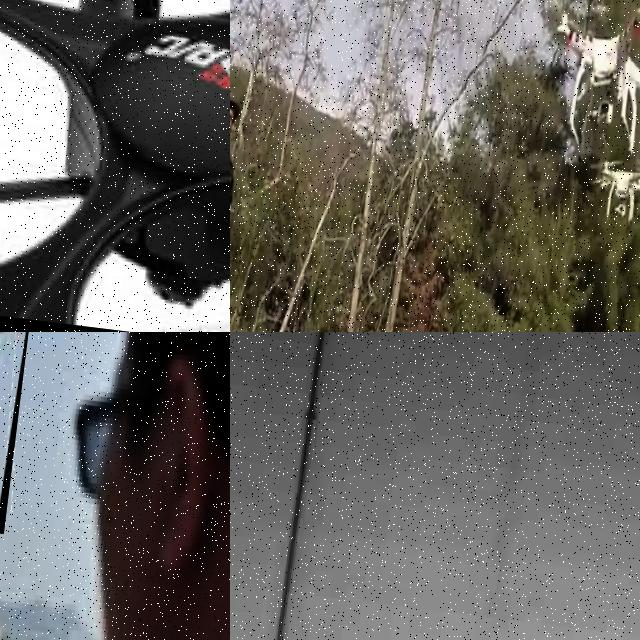drone: (0, 0, 230, 332)
